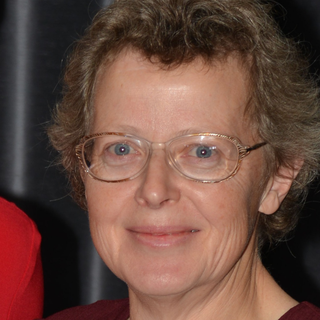eye: (175, 140, 222, 163), (101, 139, 143, 163)
